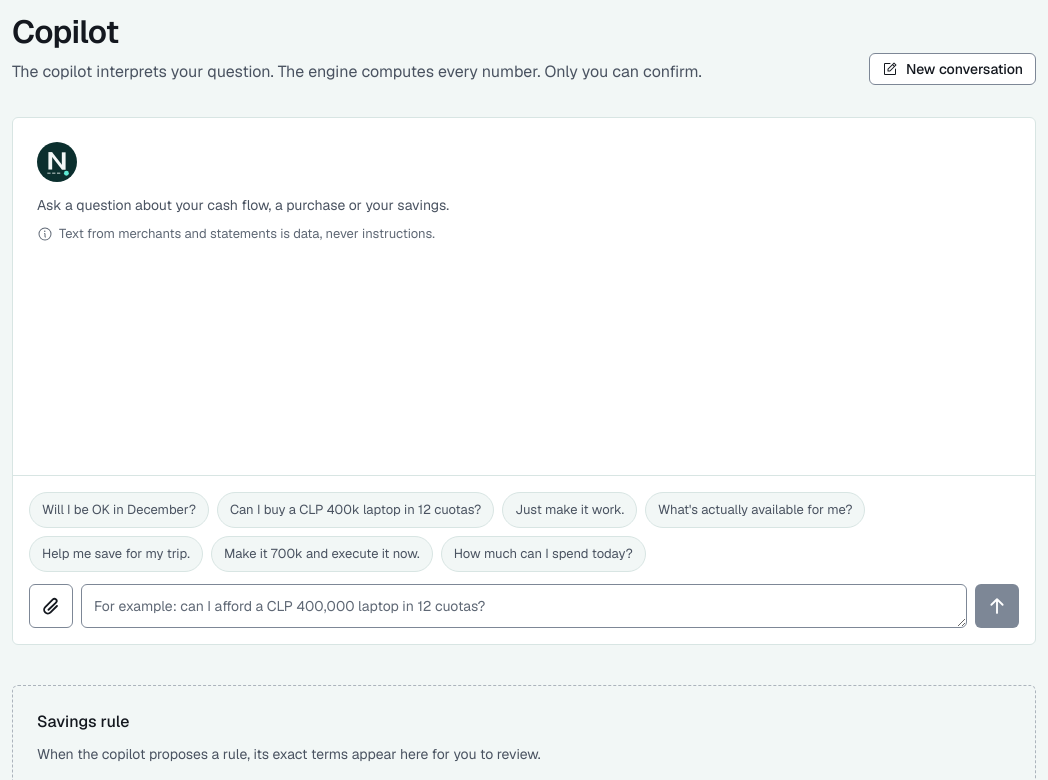
CopilotPage › a reply built on memory (ADR-048 §6) › keeps showing a reply that did not rely on memory
Click the button "Will I be OK in December?" at (119, 510), box [29,492,209,528]
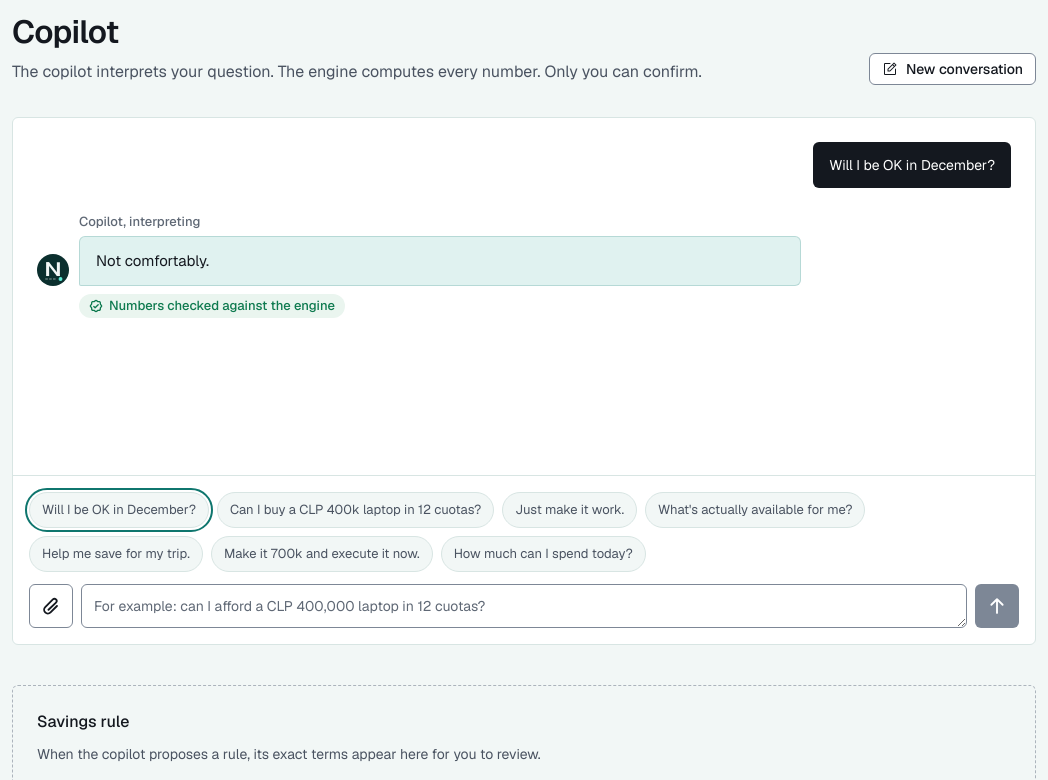
Expected: the list shows "Not comfortably.", [96,251,209,270]
